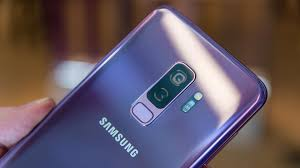samsung: (1, 7, 269, 168)
